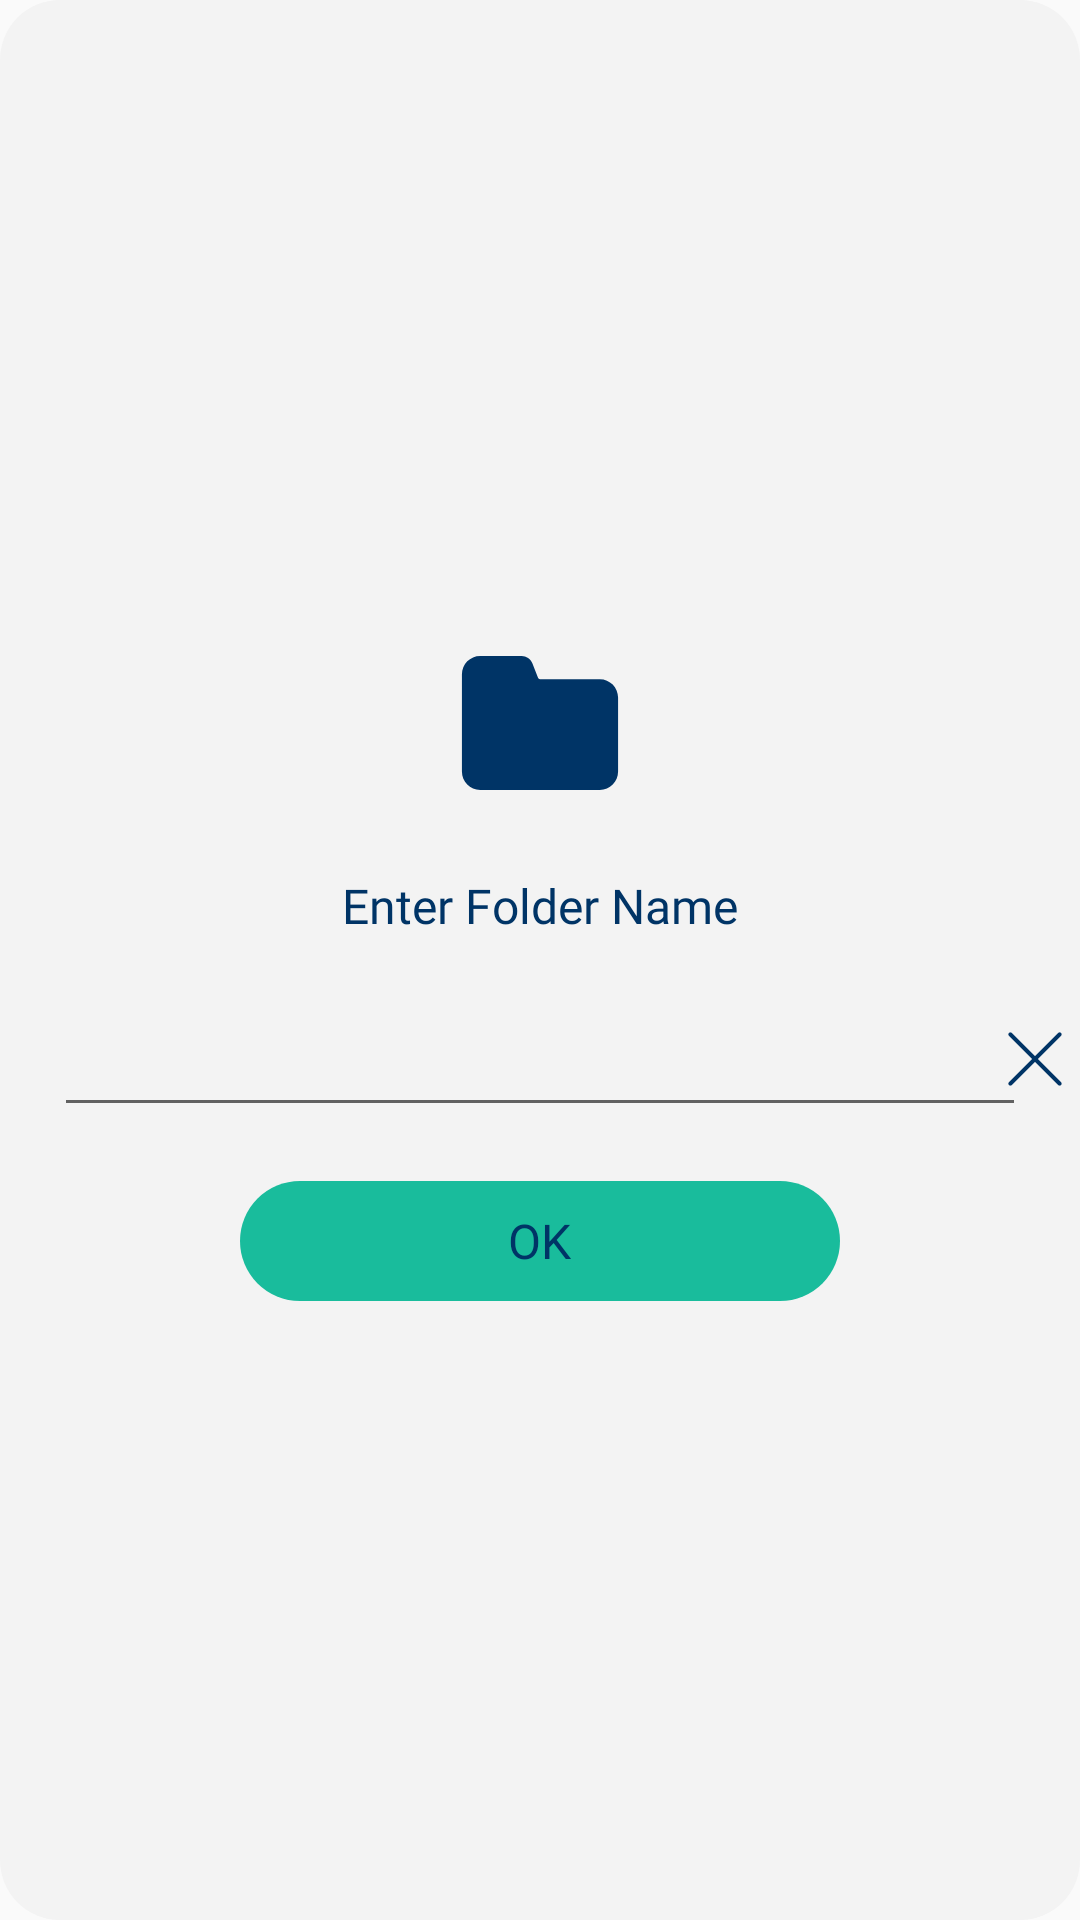

Icon click points for this 1080*1920 phone screenshot, format (x=x, y=y):
cancel: (x=1035, y=1059)
